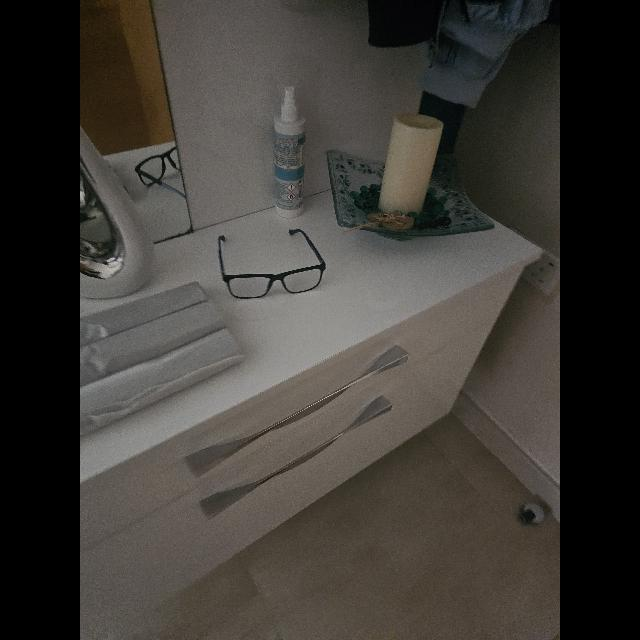glasses: (218, 230, 326, 298), (134, 146, 186, 200)
